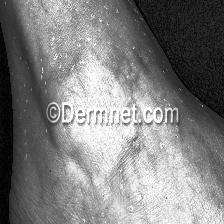Benign Marking or Mole: (34, 44, 98, 89), (82, 0, 144, 37), (15, 126, 48, 182)
